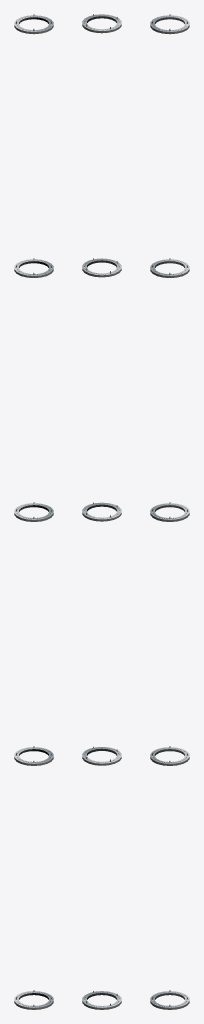
The model's file is banzhiqu_neibumoxing_luoshuan_4.glb.
3 views of the same model, side by side, from view 1: azimuth 90°, elevation 25°; view 2: azimuth 210°, elevation 25°; view 3: azimuth 270°, elevation 25° (orthographic).
Parts seen in each view (by area): view 1: banzhiqu_neibumoxing_luoshuan_4_5, banzhiqu_neibumoxing_luoshuan_4_3, banzhiqu_neibumoxing_luoshuan_4_4, banzhiqu_neibumoxing_luoshuan_4_1, banzhiqu_neibumoxing_luoshuan_4_2; view 2: banzhiqu_neibumoxing_luoshuan_4_5, banzhiqu_neibumoxing_luoshuan_4_4, banzhiqu_neibumoxing_luoshuan_4_1, banzhiqu_neibumoxing_luoshuan_4_2, banzhiqu_neibumoxing_luoshuan_4_3; view 3: banzhiqu_neibumoxing_luoshuan_4_5, banzhiqu_neibumoxing_luoshuan_4_3, banzhiqu_neibumoxing_luoshuan_4_4, banzhiqu_neibumoxing_luoshuan_4_1, banzhiqu_neibumoxing_luoshuan_4_2.
Part boxes in pixels (left/top/right/bottom): banzhiqu_neibumoxing_luoshuan_4_5: left=14, top=990, right=53, bottom=1009; banzhiqu_neibumoxing_luoshuan_4_3: left=14, top=502, right=53, bottom=521; banzhiqu_neibumoxing_luoshuan_4_4: left=14, top=746, right=53, bottom=765; banzhiqu_neibumoxing_luoshuan_4_1: left=14, top=14, right=53, bottom=34; banzhiqu_neibumoxing_luoshuan_4_2: left=14, top=258, right=53, bottom=277; banzhiqu_neibumoxing_luoshuan_4_5: left=82, top=990, right=121, bottom=1009; banzhiqu_neibumoxing_luoshuan_4_4: left=82, top=746, right=121, bottom=765; banzhiqu_neibumoxing_luoshuan_4_1: left=82, top=14, right=121, bottom=33; banzhiqu_neibumoxing_luoshuan_4_2: left=82, top=258, right=121, bottom=277; banzhiqu_neibumoxing_luoshuan_4_3: left=82, top=502, right=121, bottom=521; banzhiqu_neibumoxing_luoshuan_4_5: left=150, top=990, right=189, bottom=1009; banzhiqu_neibumoxing_luoshuan_4_3: left=150, top=502, right=189, bottom=521; banzhiqu_neibumoxing_luoshuan_4_4: left=150, top=746, right=189, bottom=765; banzhiqu_neibumoxing_luoshuan_4_1: left=150, top=14, right=189, bottom=34; banzhiqu_neibumoxing_luoshuan_4_2: left=150, top=258, right=189, bottom=277.
Size of the model in its own units: 255 by 6928 by 251.
1 material, 1 textured.
